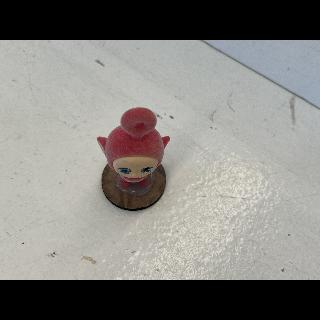teletubby: (97, 107, 170, 188)
